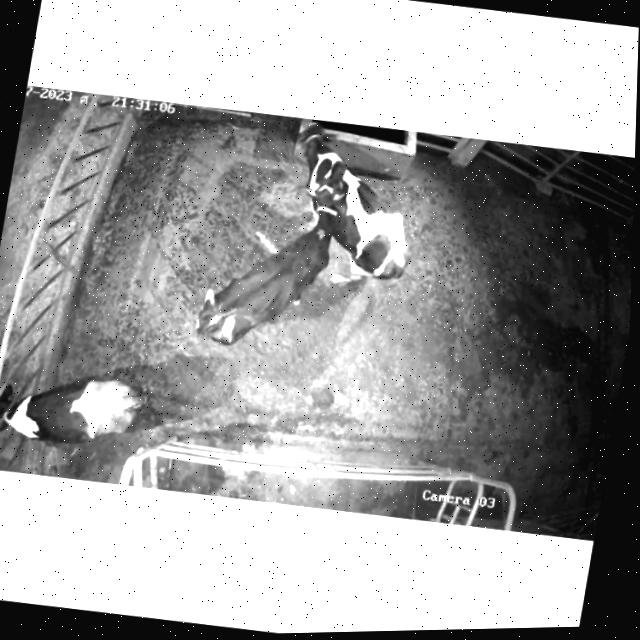propping: (274, 146, 385, 255)
